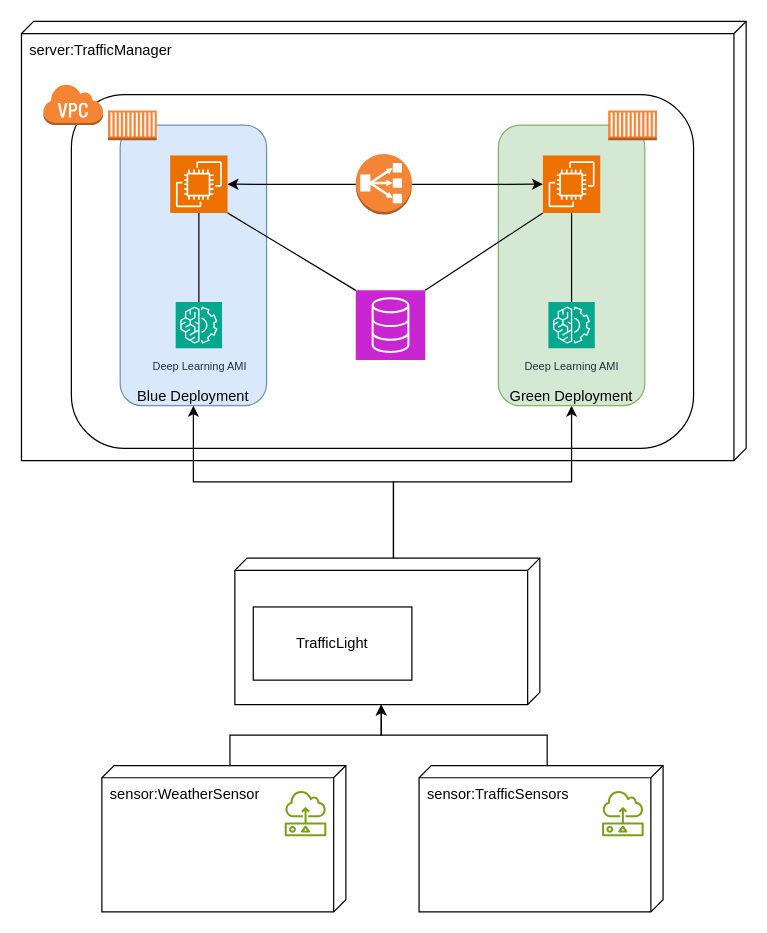
The diagram is 767 pixels wide and 933 high, and some of its shapes have lost their labels. Each missing label, with the box of its shape:
DB Instance: (355, 289, 425, 360)
embedded-system:Intersection: (234, 557, 540, 705)
Load Balancer: (355, 153, 412, 214)
